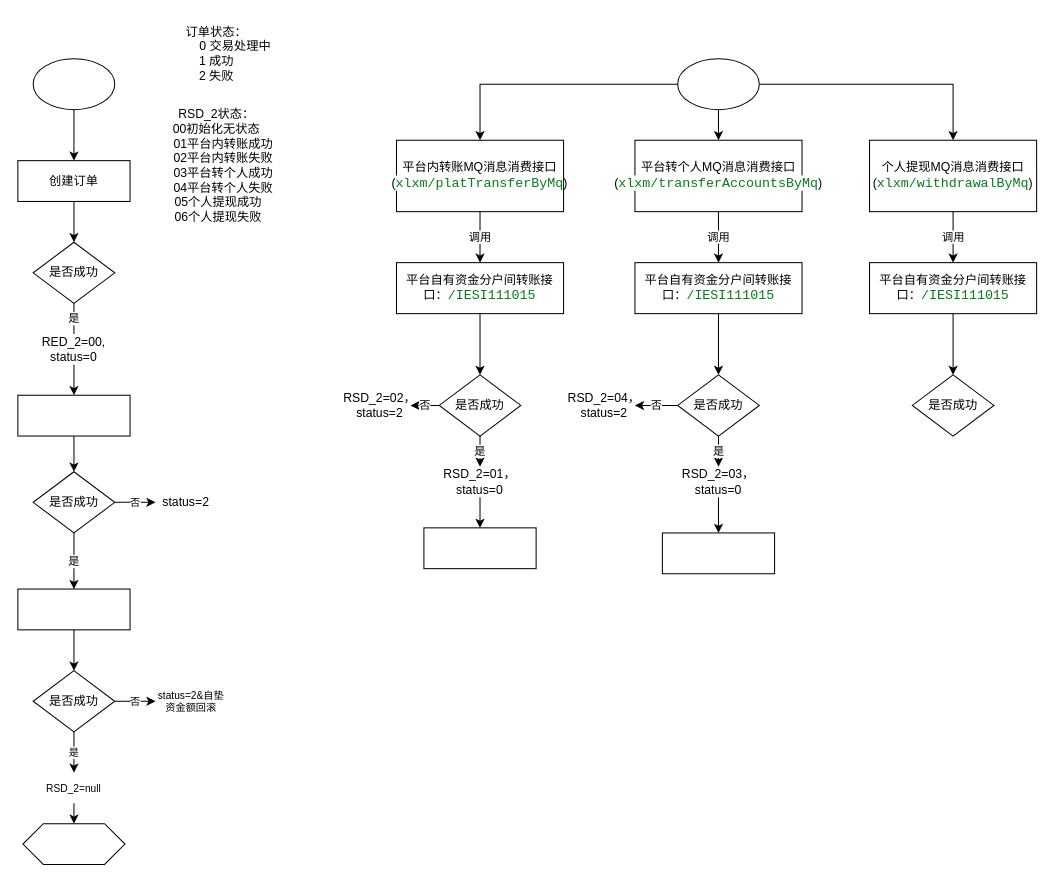
Image size: 1055x882. Some labels were removed from this diagram. The shapes that lost their labels are listed below. From the top down, each one's centre as x and y in pixels, then its label:
the point at 73,84: 开始
the point at 718,84: MQ消费者
the point at 73,415: 扣除用户自垫资
the point at 479,548: 发送平台分户转会员分户MQ消息
the point at 718,553: 发送 预付货款退款申请 MQ消息
the point at 73,609: 发送平台内转账MQ消息
the point at 73,843: MQ
